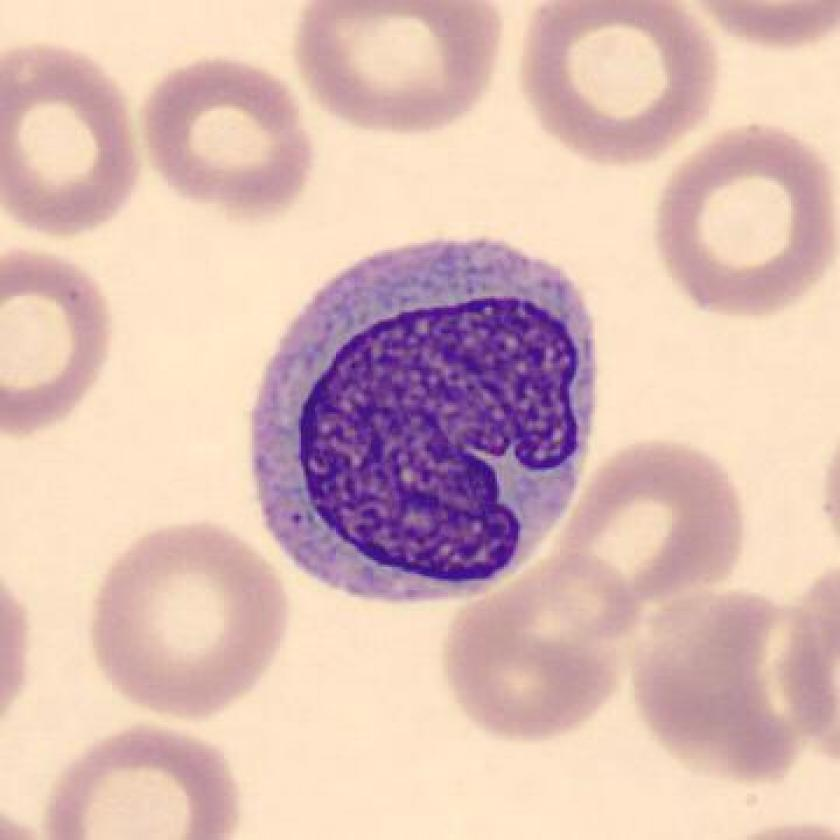monocyte: (235, 221, 620, 621)
